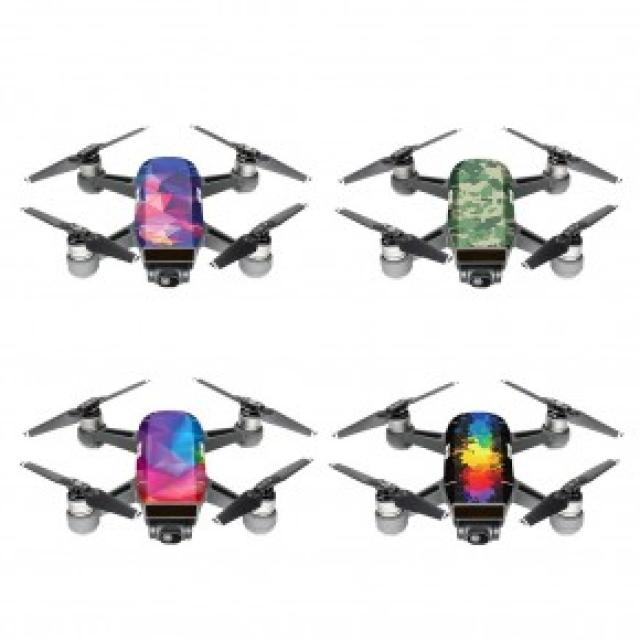drone: (13, 362, 322, 558), (329, 366, 624, 563), (331, 121, 629, 309), (18, 122, 320, 294)
